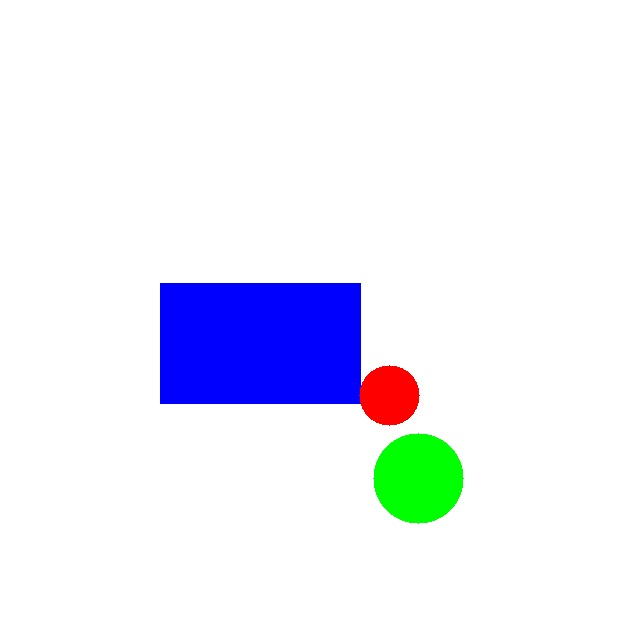cartao: (160, 283, 360, 403)
rosca_externa: (373, 433, 463, 523)
rosca_interna: (359, 365, 419, 425)
